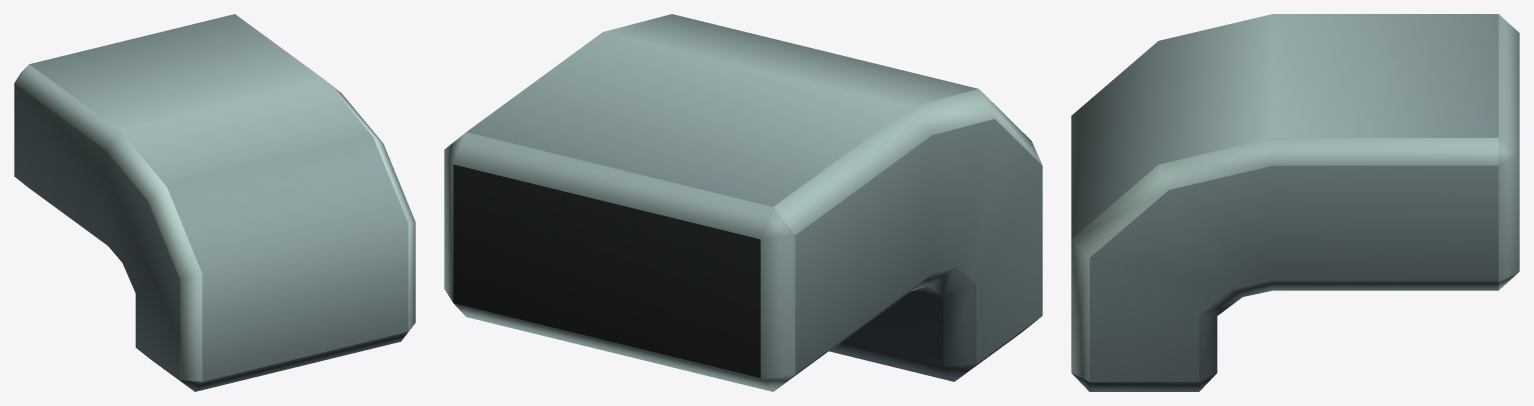
File: air_duct_bend_down.fbx
The picture shows the model from 3 angles, left to right: view 1: azimuth 30°, elevation 25°; view 2: azimuth 150°, elevation 25°; view 3: azimuth 270°, elevation 25°; orthographic projection. The views are drawn at different scales.
Visible parts, largest first — view 1: air_duct_bend_down; view 2: air_duct_bend_down; view 3: air_duct_bend_down.
Part boxes in pixels (left/top/right/bottom): air_duct_bend_down: left=14, top=14, right=415, bottom=391; air_duct_bend_down: left=444, top=14, right=1042, bottom=391; air_duct_bend_down: left=1071, top=14, right=1519, bottom=391.
Size of the model in its own units: 81.3 by 68.05 by 109.
